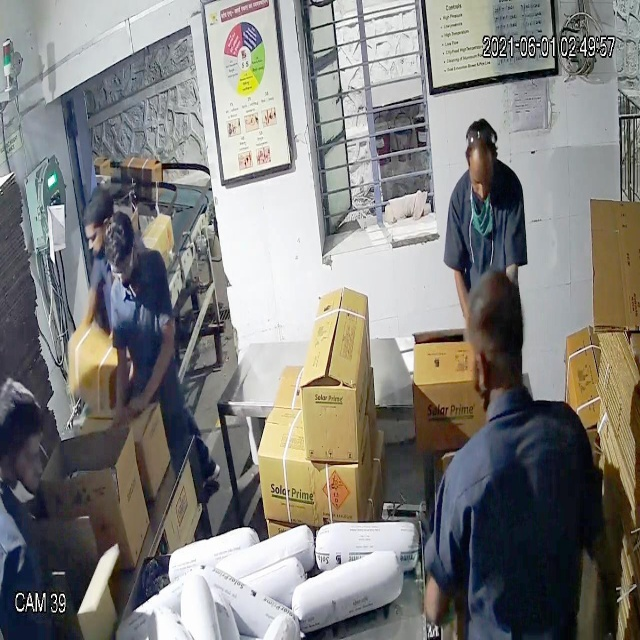Sin_gafas: (468, 167, 500, 196)
